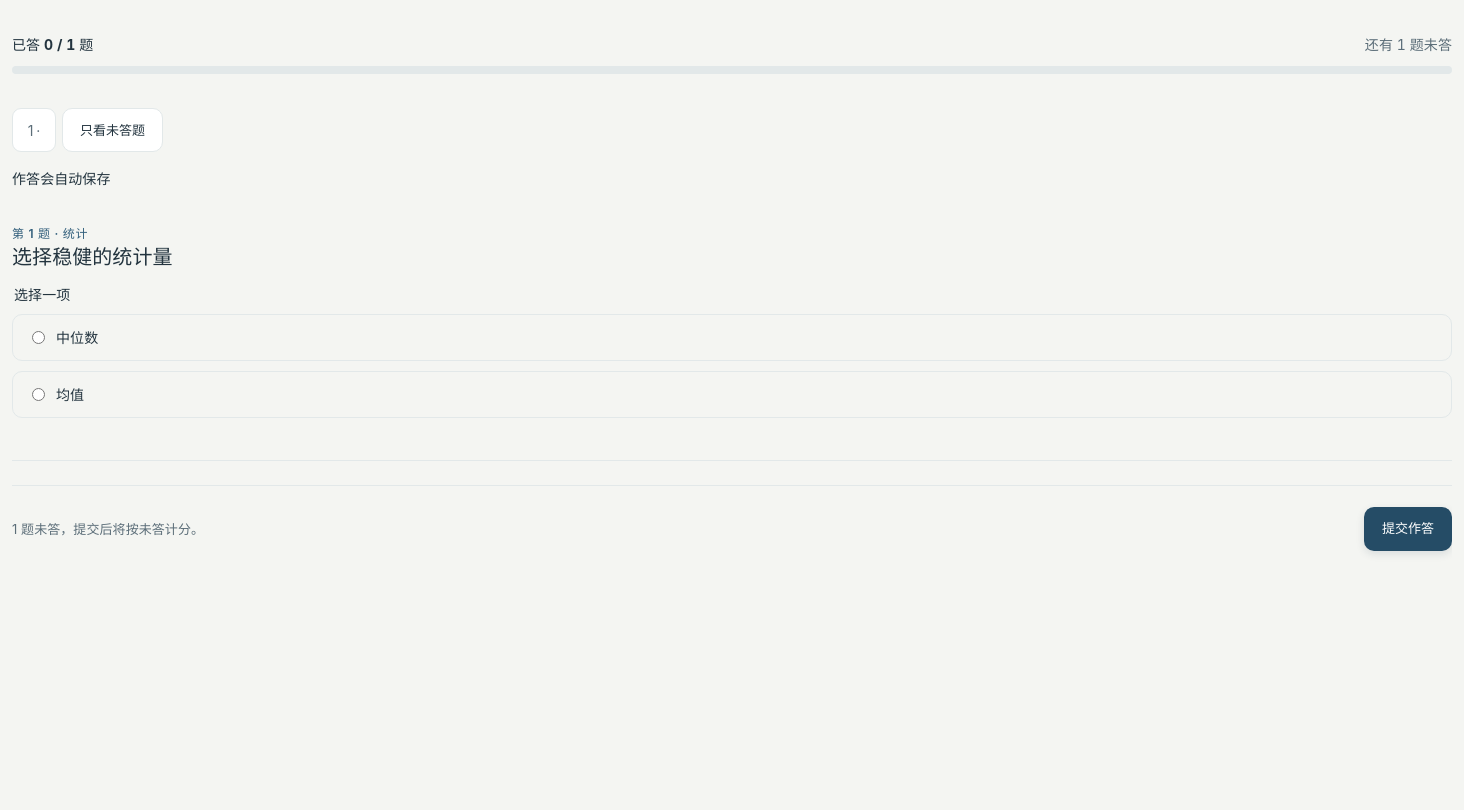
Test: failed autosave preserves checked answer and prevents submission
Click the radio button labelled "均值" at x=38, y=394, box [32,388,45,401]
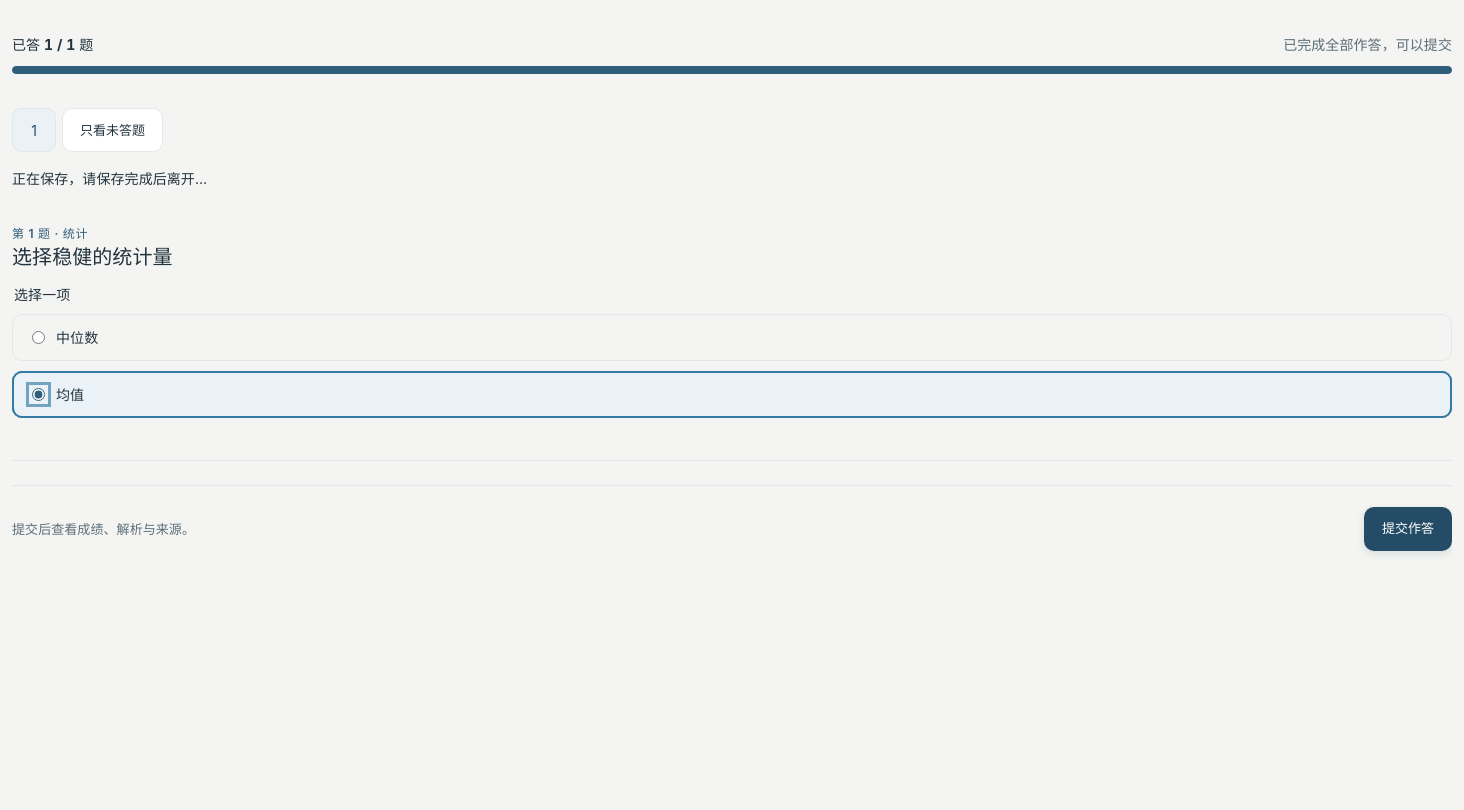
Click the button "提交作答" at x=1408, y=528, box [1364,506,1452,550]
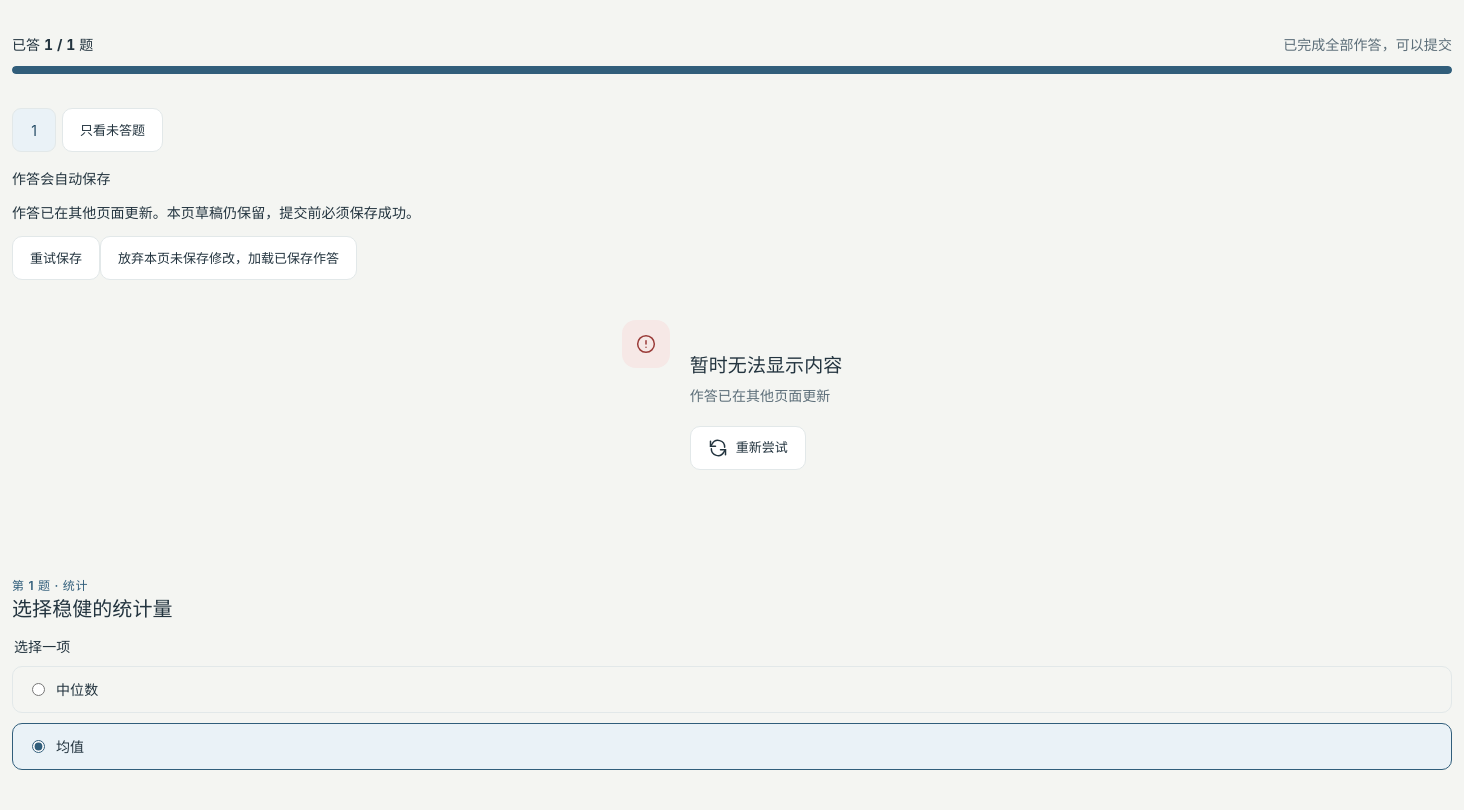
Result: the radio button labelled "均值" is checked at [32,740,45,753]
Result: the text "作答已在其他页面更新。本页草稿仍保留，提交前必须保存成功。" is shown at [12,204,420,221]
